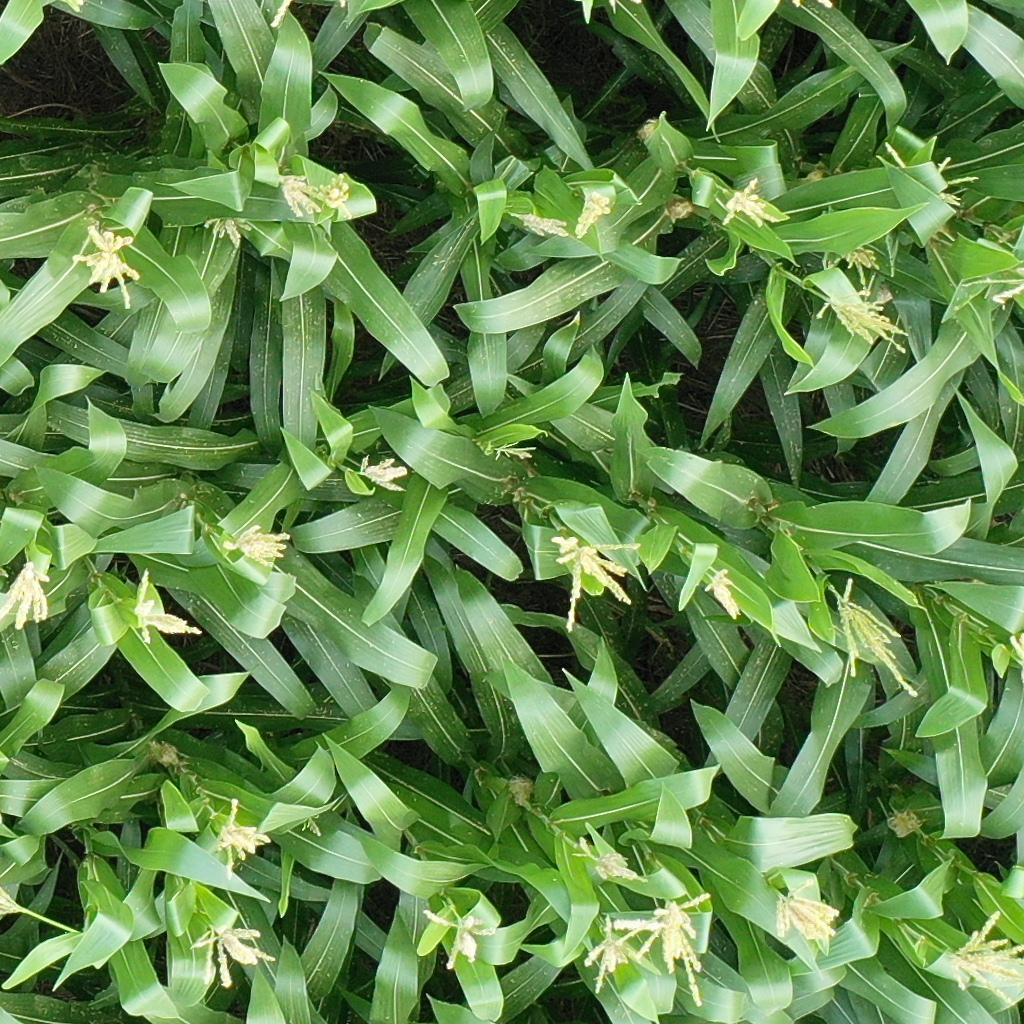Tassel: (614, 892, 717, 1010), (831, 577, 920, 698), (549, 537, 641, 636), (948, 908, 1024, 1007), (884, 141, 981, 213), (816, 288, 911, 355), (131, 566, 206, 646), (73, 223, 139, 311), (192, 923, 277, 990), (771, 874, 842, 951), (213, 797, 272, 882), (422, 909, 496, 971), (583, 910, 633, 995), (1, 561, 55, 632), (575, 838, 648, 886), (219, 524, 292, 570), (722, 176, 781, 230), (962, 264, 1024, 306), (274, 172, 323, 218), (359, 454, 413, 494), (704, 567, 742, 622), (574, 189, 614, 239), (514, 210, 573, 241), (205, 217, 255, 251), (318, 173, 354, 219), (844, 247, 881, 286), (493, 439, 538, 464), (1, 885, 24, 916), (300, 814, 327, 840), (1005, 633, 1024, 665), (60, 1, 86, 13)
